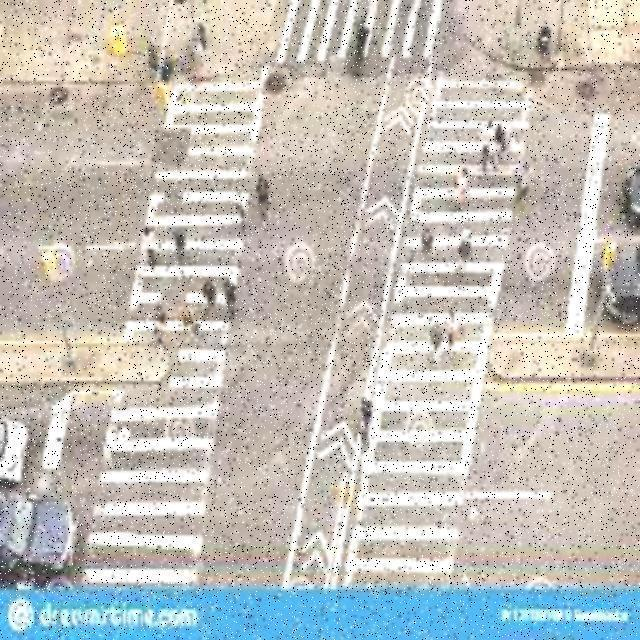crosswalk: (343, 76, 535, 592), (81, 80, 267, 587)
